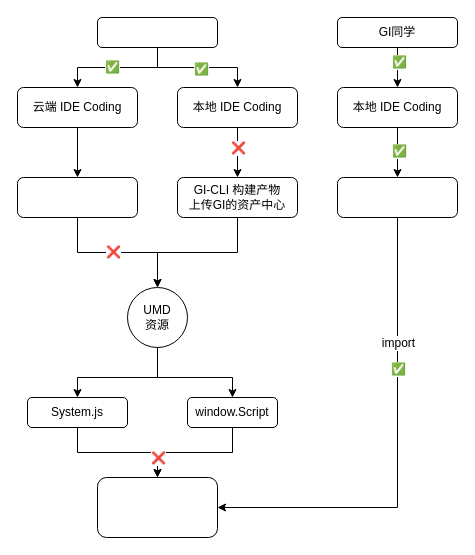
Some shapes in this 475 by 555 pixel diagram are drawn without their labels. Here are the shapes that lost their labels. From the top down, the box of each, then its label:
(96, 16, 218, 48): 业务同学
(16, 176, 138, 218): 雨燕构建产物 发布CDN
(336, 176, 458, 218): @alipay/gi-assets
(96, 476, 218, 538): 探索分析页面 消费 Assets
